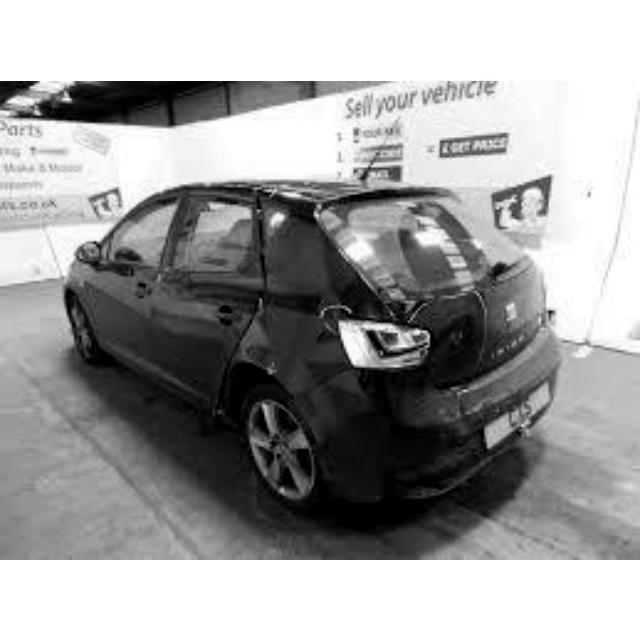quaterpanel-dent: (270, 313, 383, 446)
